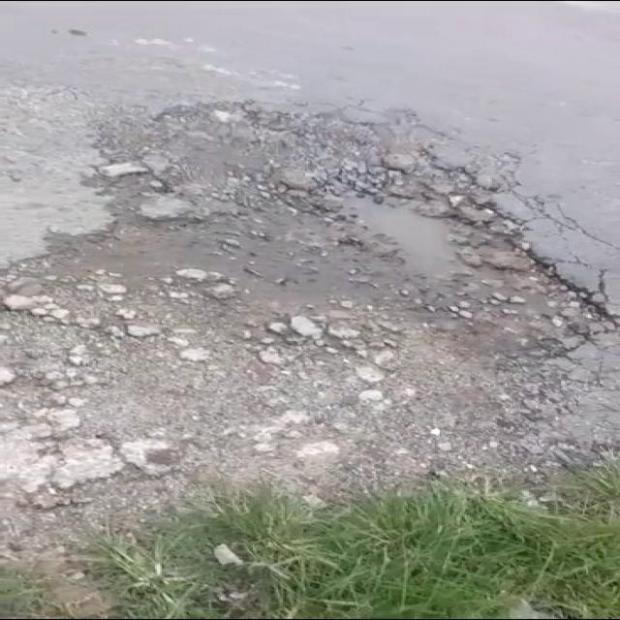lubang: (0, 108, 619, 448)
